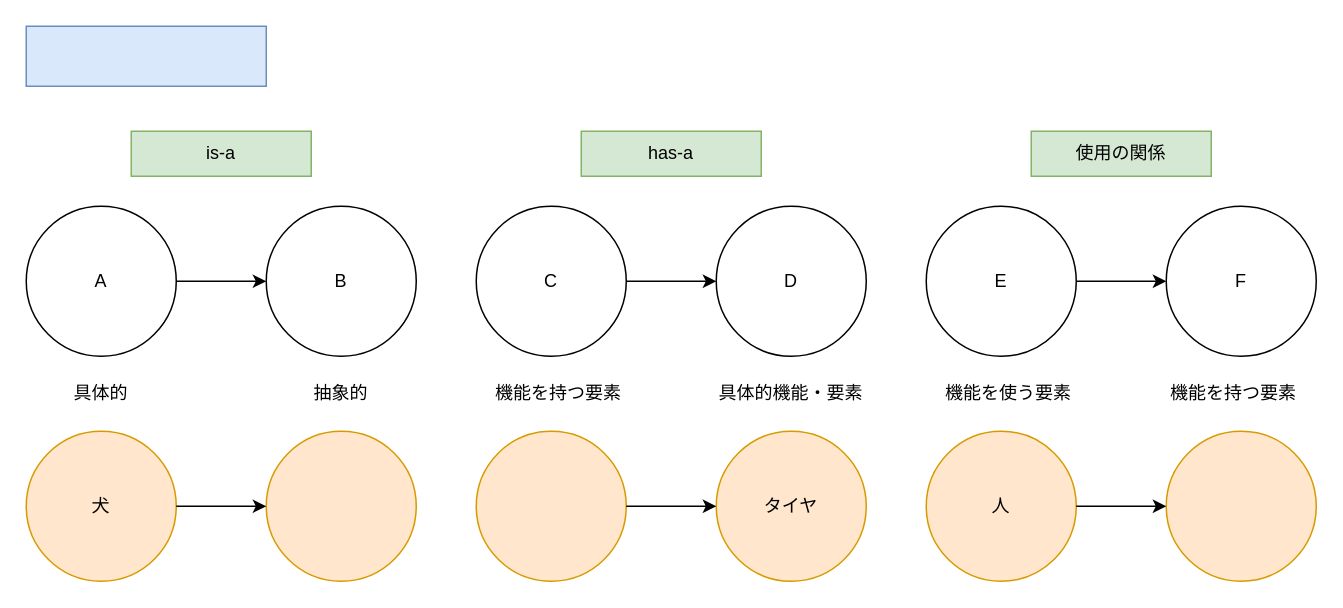
Some shapes in this 1343 by 608 pixel diagram are drawn without their labels. The shapes that lost their labels are listed below. From the top down, each one's centre as x and y in pixels, then its label:
point (145, 55): 関連 ～オブジェクト指向～
point (340, 505): 哺乳類
point (550, 505): 自転車
point (1240, 505): ペン
